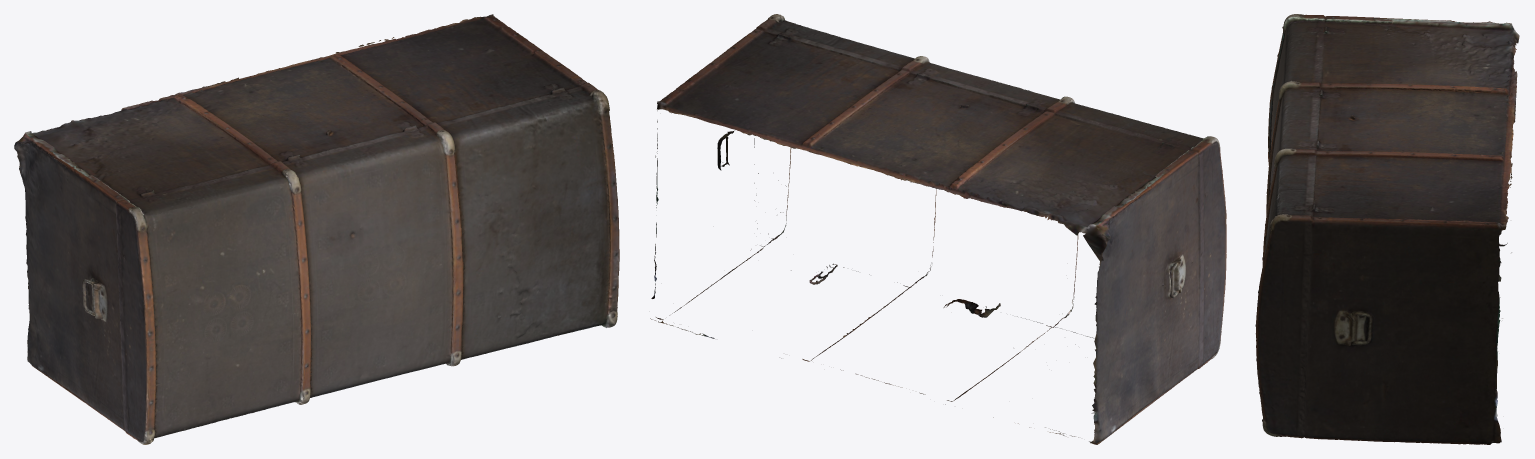
The model's file is bau_seringalista_otimizado.glb.
3 views of the same model, side by side, from view 1: azimuth 30°, elevation 25°; view 2: azimuth 150°, elevation 25°; view 3: azimuth 270°, elevation 25° (orthographic). The views are drawn at different scales.
Parts seen in each view (by area): view 1: Mesh_0_Part_0; view 2: Mesh_0_Part_0; view 3: Mesh_0_Part_0.
Part boxes in pixels (<box>): Mesh_0_Part_0: <box>14,14,619,444</box>; Mesh_0_Part_0: <box>650,14,1226,444</box>; Mesh_0_Part_0: <box>1255,14,1519,444</box>.
Bounding box in the file's own units: 21.29 × 10.54 × 10.73.
1 material, 1 textured.
